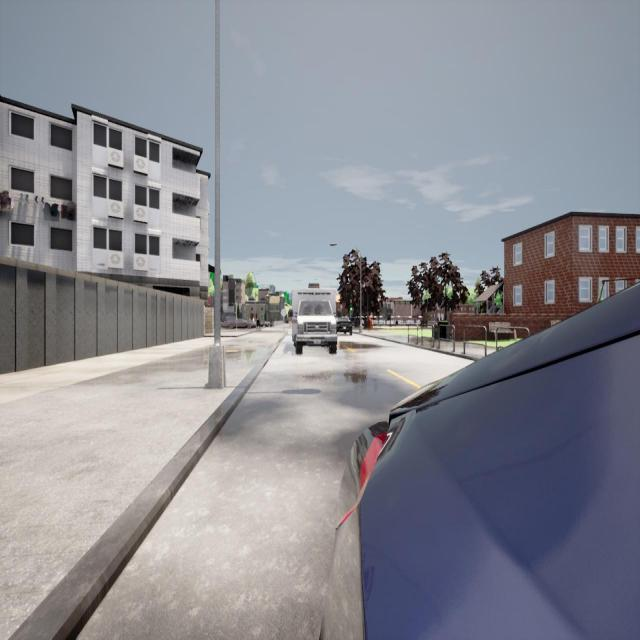Pedestrian: (369, 312, 374, 330)
Traffic_Signs: (281, 308, 287, 316)
Vehicle: (318, 280, 640, 638), (292, 288, 338, 354), (337, 314, 352, 336), (224, 319, 256, 329)
traffic_light: (233, 304, 236, 312), (350, 303, 352, 311)
